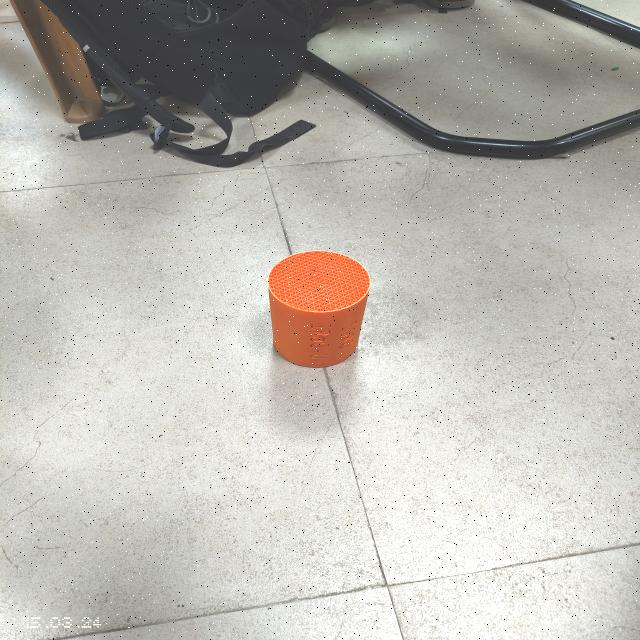Cylinder: (266, 250, 371, 368)
